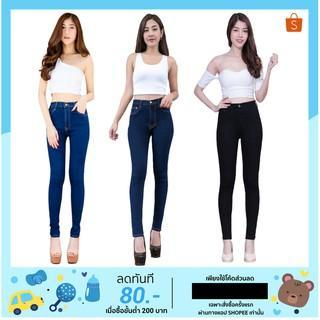pants: (215, 98, 264, 241), (128, 97, 175, 237), (43, 101, 89, 236)
